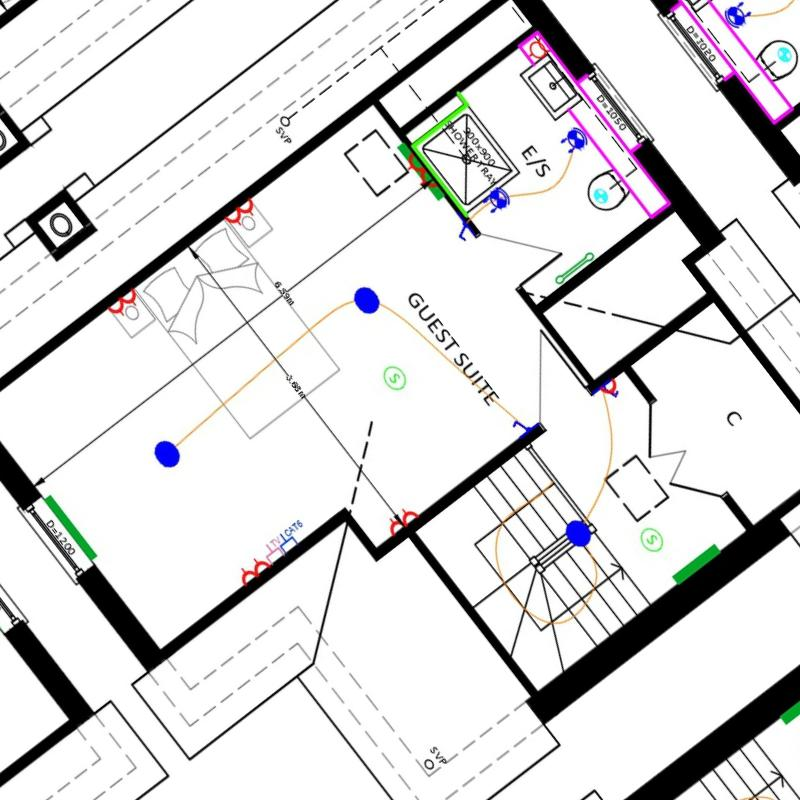Cat 6 Data Socket: (279, 520, 304, 554)
Ceiling Mounted Continuous Extract FanWith Boost Mode Activated By Light Switch: (777, 47, 792, 62), (594, 188, 608, 203)
Co-Ax TV Socket: (263, 537, 285, 561)
Double Socket: (405, 154, 437, 188), (240, 558, 270, 586), (107, 289, 138, 316), (224, 199, 255, 226), (389, 508, 418, 535)
Full Height Tiling: (410, 93, 470, 219)
Light Switch: (457, 220, 473, 241), (511, 419, 532, 434), (601, 382, 619, 399)
Low Energy Downlighter: (481, 187, 511, 214), (560, 127, 588, 154), (724, 2, 751, 28)
Low Energy Pendant Light: (154, 441, 181, 468), (354, 287, 379, 315), (566, 521, 591, 547)
Mains Wired Smoke Detector: (639, 527, 663, 552), (382, 366, 406, 390)
Radiator: (43, 495, 97, 562), (397, 143, 443, 201), (672, 545, 721, 584), (781, 701, 800, 726)
Shaver Socket: (528, 36, 552, 60)
Single Socket: (599, 379, 618, 398)
